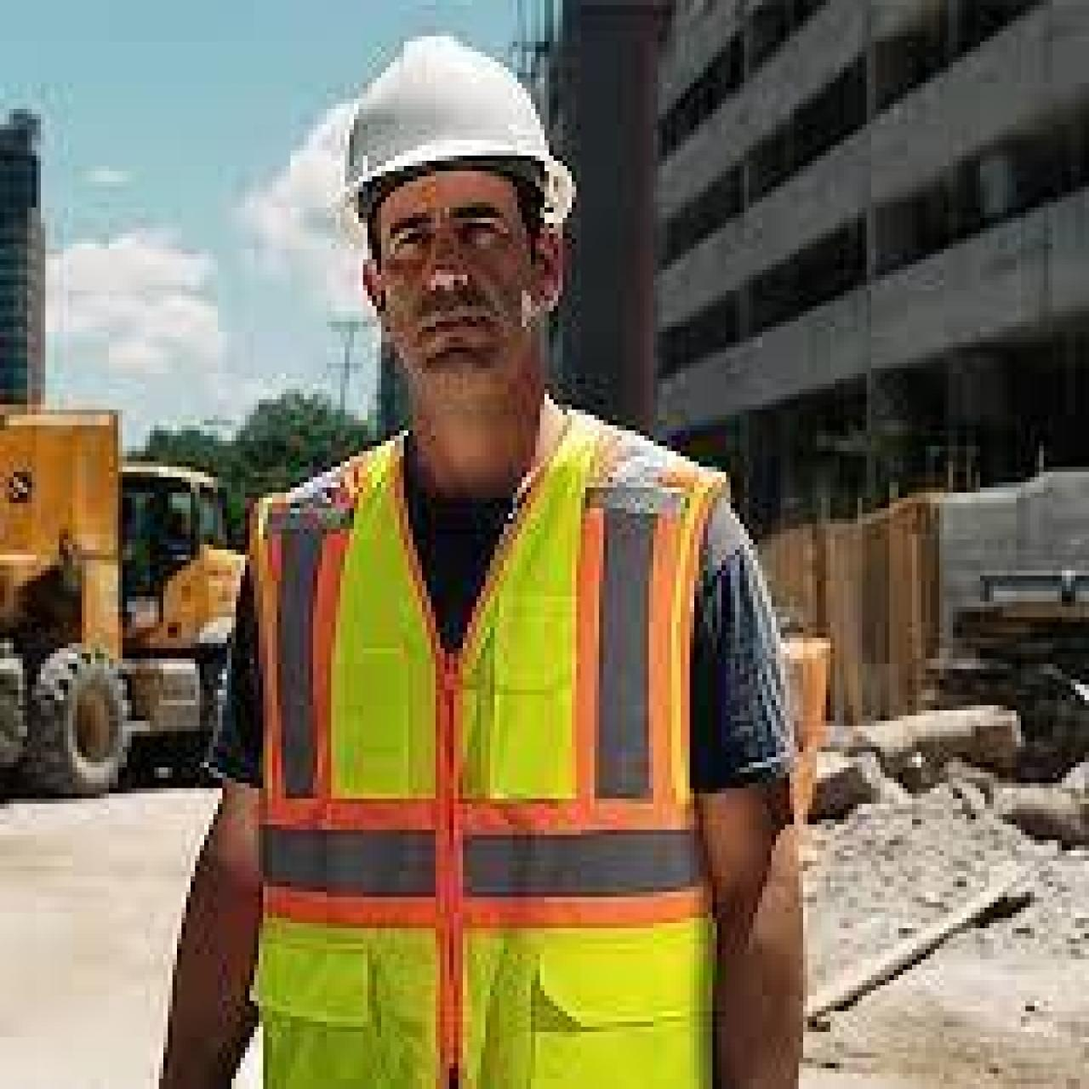Person: (129, 8, 834, 1089)
Safety_Vest: (233, 411, 739, 1089)
